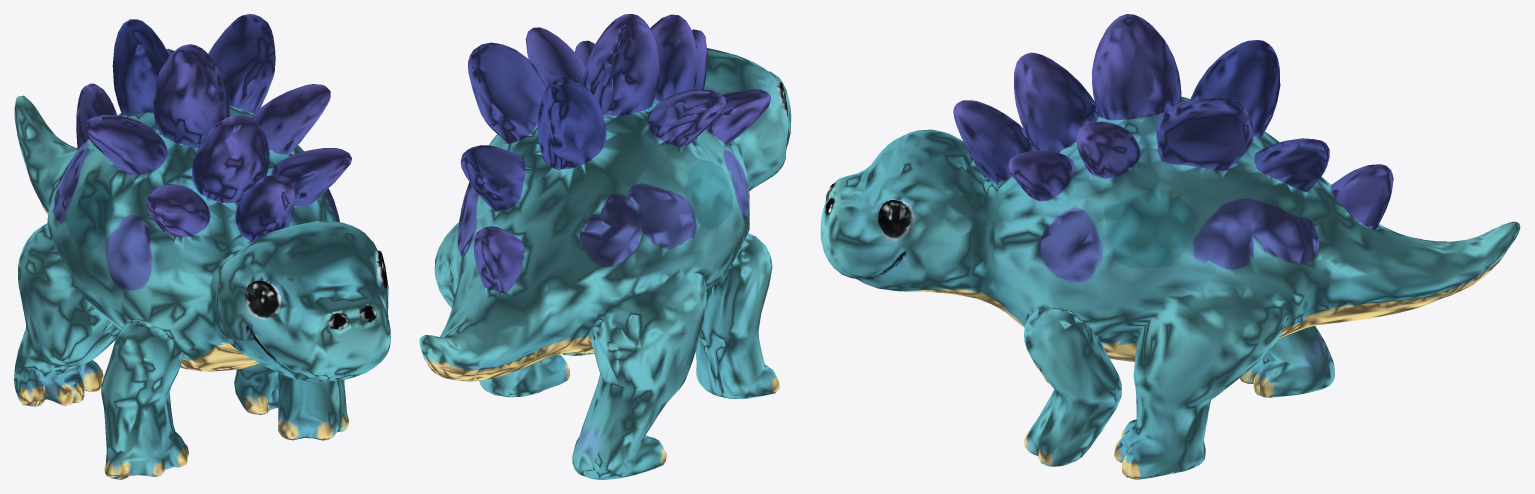
Rendered from stegosaurus.glb.
The picture shows the model from 3 angles, left to right: view 1: azimuth 30°, elevation 25°; view 2: azimuth 150°, elevation 25°; view 3: azimuth 270°, elevation 25°; orthographic projection. The views are drawn at different scales.
Parts seen in each view (by area): view 1: bdec_41364a5n.glb; view 2: bdec_41364a5n.glb; view 3: bdec_41364a5n.glb.
Boxes of the visible parts, x1,y1,x2,y2 form: bdec_41364a5n.glb: (14,14,390,479); bdec_41364a5n.glb: (419,14,791,479); bdec_41364a5n.glb: (820,14,1520,479).
Size of the model in its own units: 0.4515 by 0.6267 by 1.
1 material, 1 textured.
